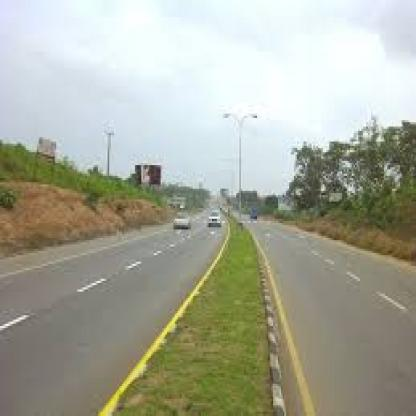car: (204, 192, 226, 242), (173, 207, 196, 239)
